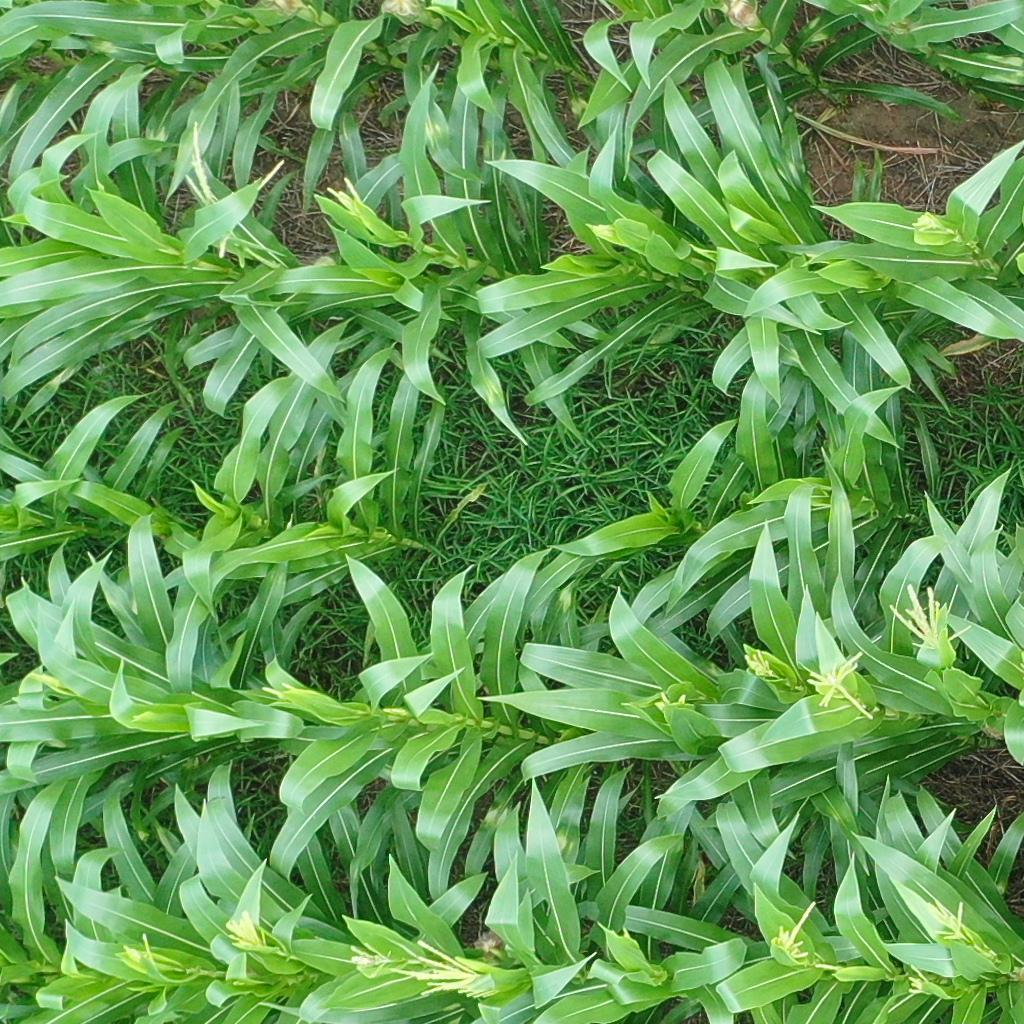Tassel: (175, 120, 283, 269), (385, 929, 482, 1001), (885, 578, 967, 661), (764, 896, 843, 977), (798, 643, 875, 723), (921, 890, 969, 946), (322, 174, 367, 225), (113, 930, 155, 980), (217, 913, 262, 956), (344, 938, 392, 978), (741, 644, 780, 687), (652, 684, 693, 721), (253, 672, 297, 705), (911, 208, 947, 240), (903, 963, 930, 996)
